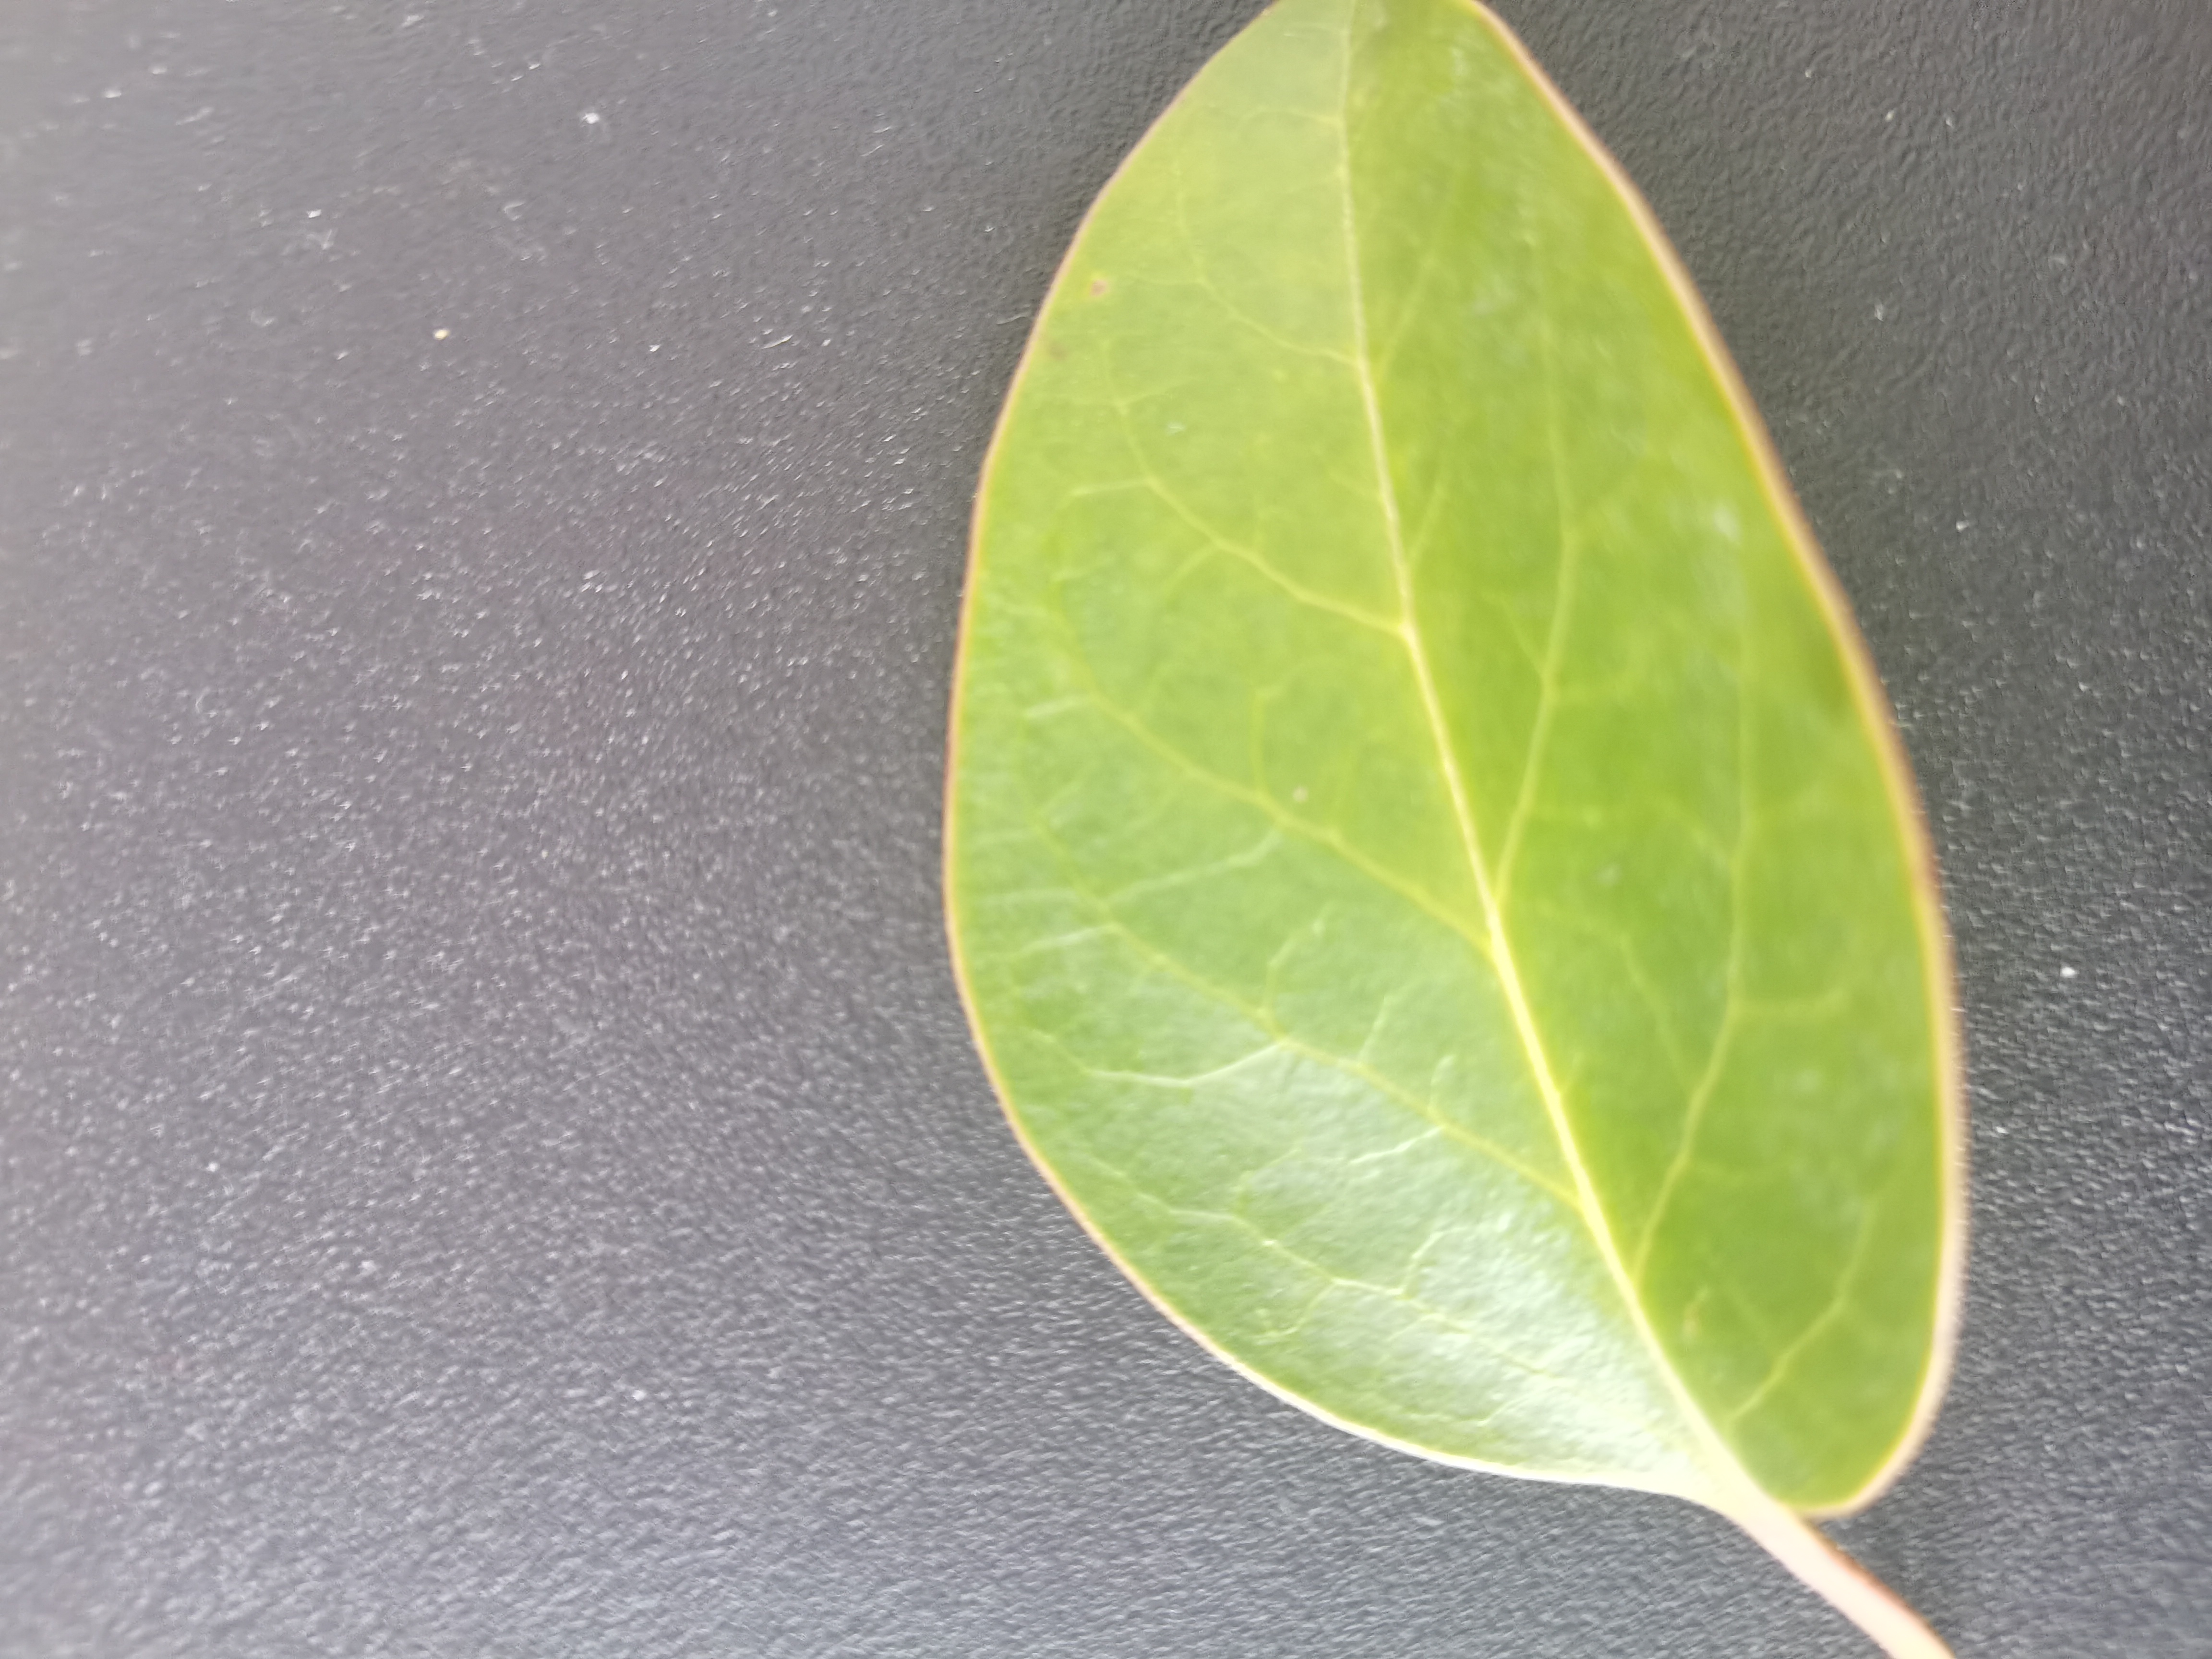4/易腐垃圾/叶子: (930, 2, 1987, 1659)
